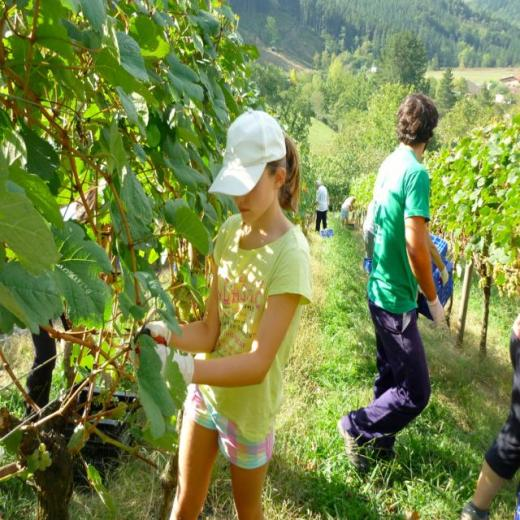Orange: (23, 442, 52, 479), (496, 260, 520, 298), (171, 277, 191, 318), (486, 260, 494, 279), (478, 280, 487, 287)
